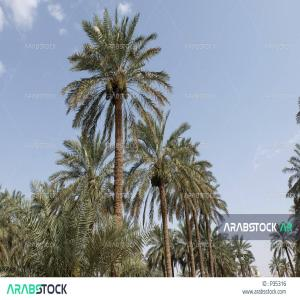palm tree: (59, 5, 174, 276), (122, 108, 215, 277), (268, 222, 296, 276), (229, 233, 253, 277)
